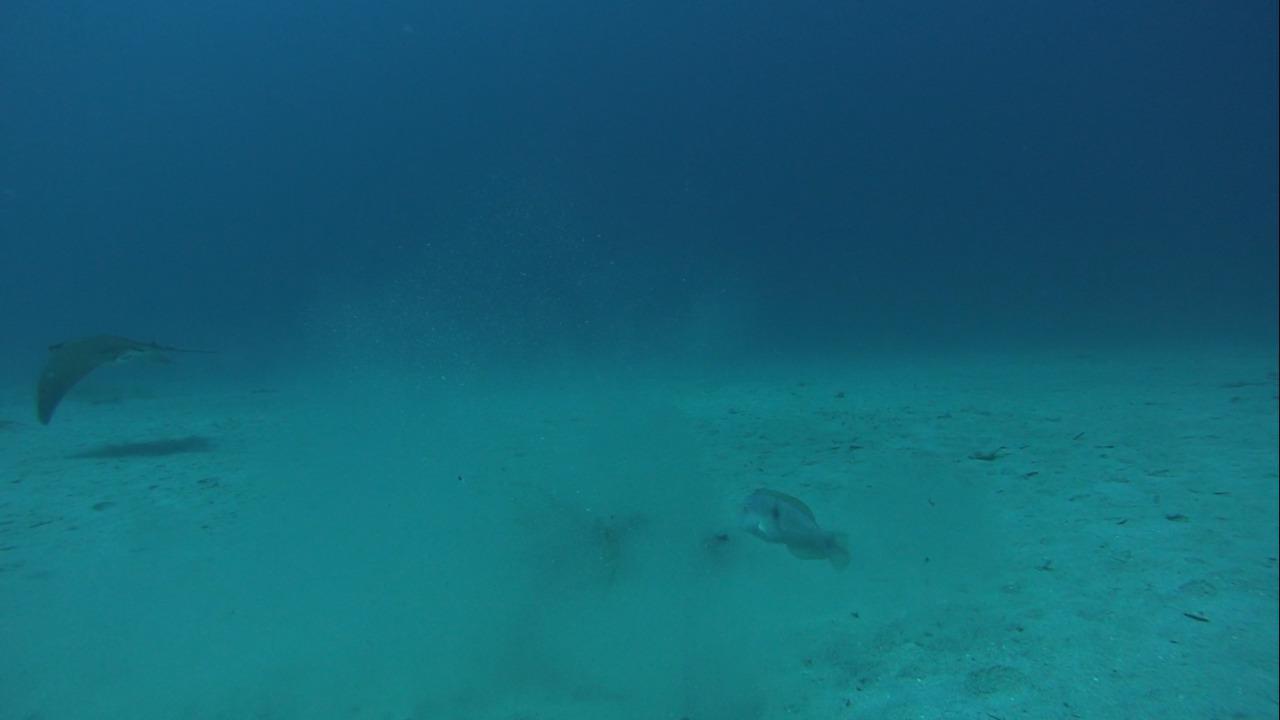myliobatis: (28, 329, 235, 429)
raor: (723, 482, 853, 567)
